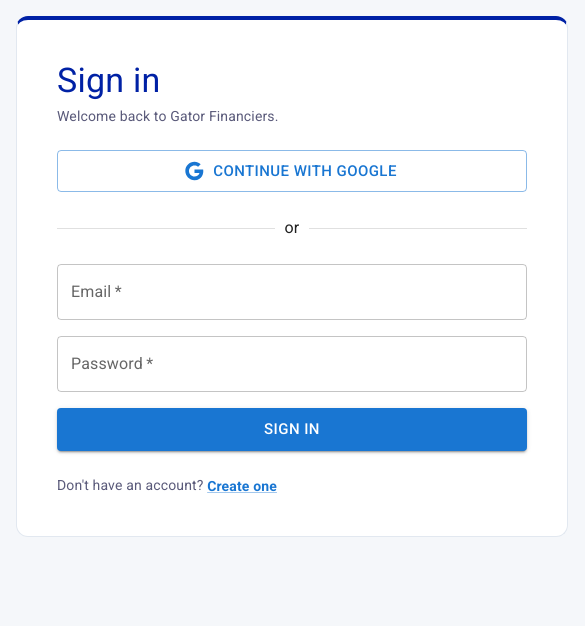
LoginPage › blocks submission when fields are empty and shows a validation error
This screenshot has width=585, height=626.
Click the button "Sign in" at (292, 429), box [57, 408, 527, 451]
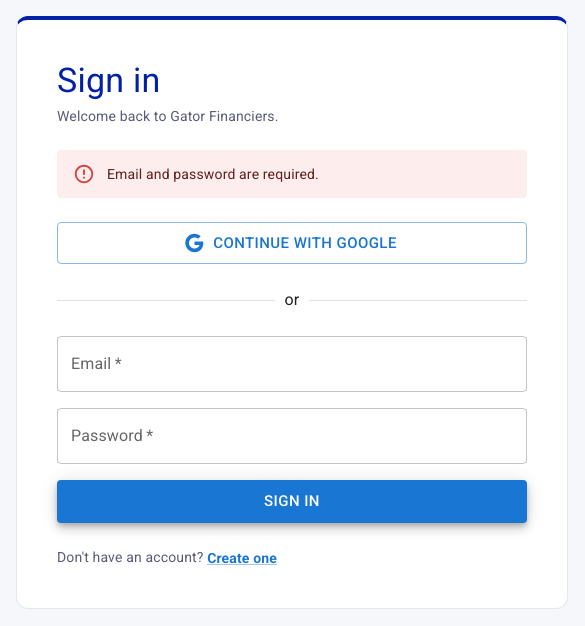
Check: the text "Email and password are required." is shown, box [107, 166, 319, 182]
